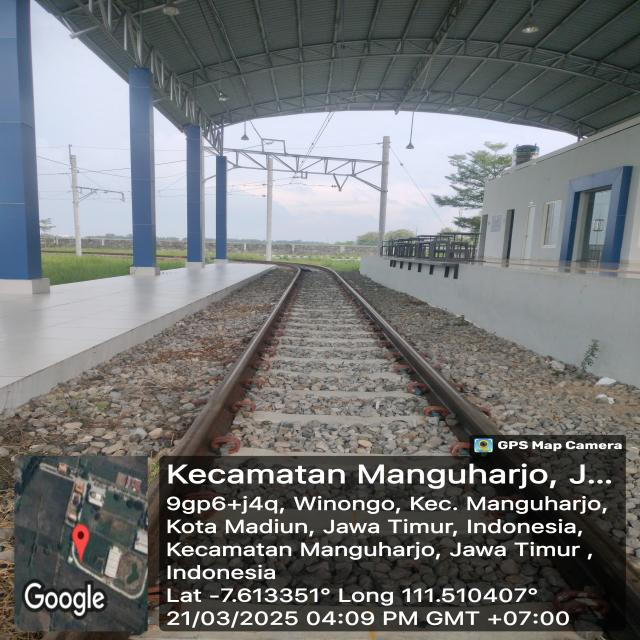rail-detection: (339, 277, 500, 435), (171, 270, 300, 455)
